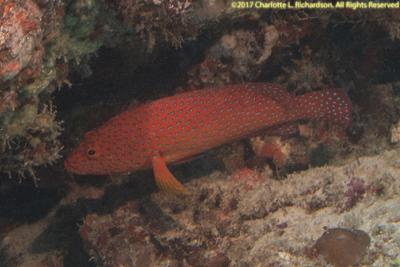Serranidae -Groupers-: (58, 77, 358, 203)
